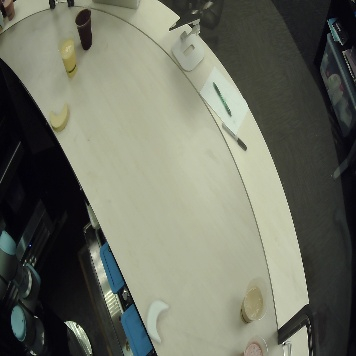full_cup: (238, 275, 270, 326), (72, 7, 97, 53), (54, 31, 79, 77), (239, 331, 272, 356), (1, 1, 20, 21)
puck: (142, 297, 173, 345), (45, 99, 74, 134)
